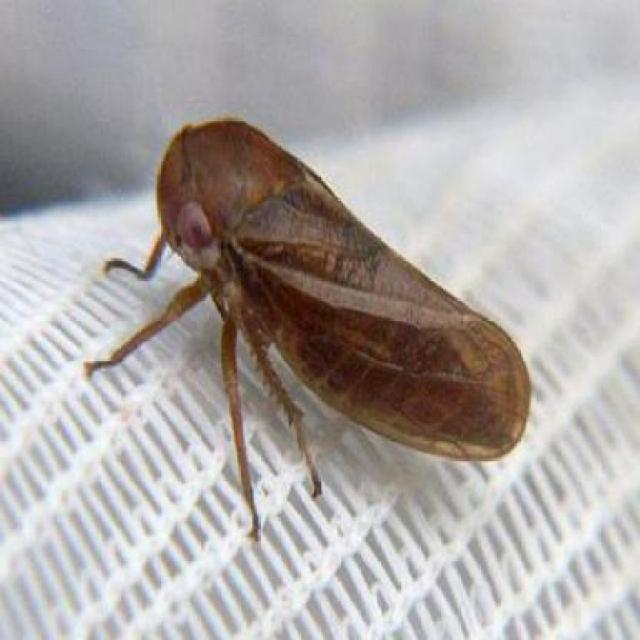brown-planthopper: (135, 100, 530, 465)
